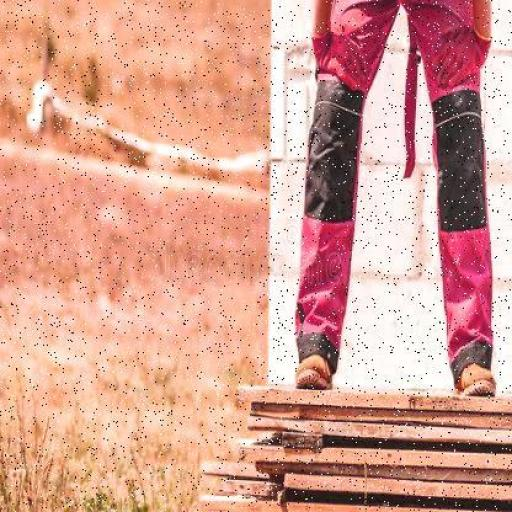safety_shoe: (286, 342, 347, 394), (452, 360, 497, 404)
